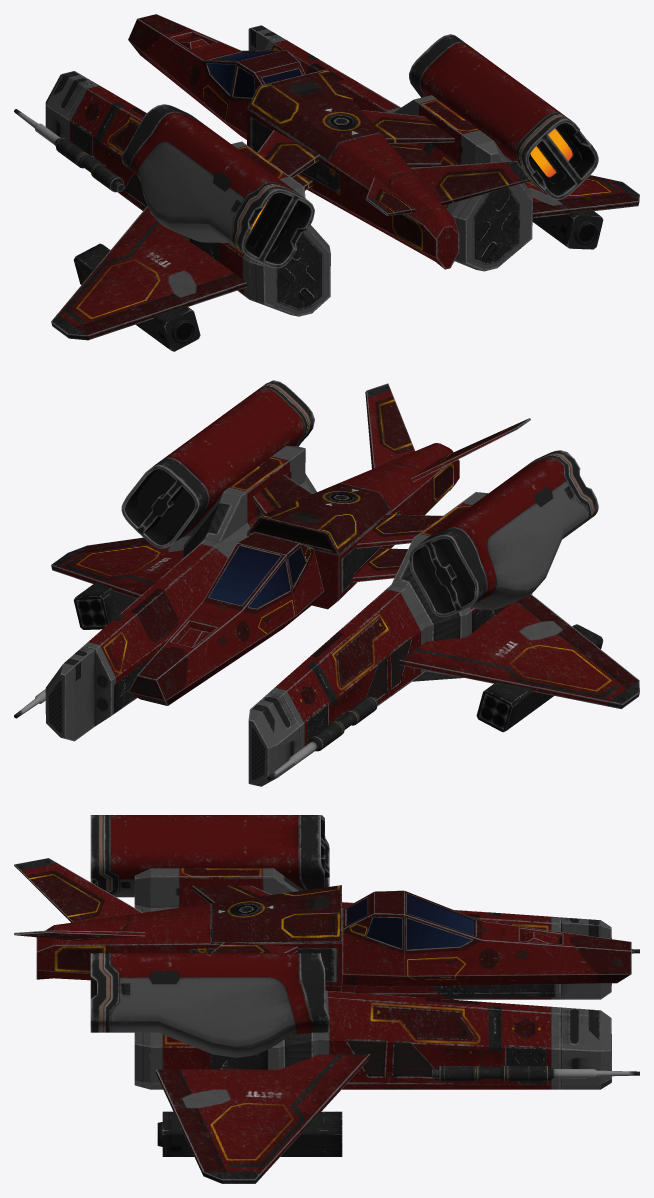
File: battleship2.gltf
3 views of the same model, one above another, from view 1: azimuth 30°, elevation 25°; view 2: azimuth 150°, elevation 25°; view 3: azimuth 270°, elevation 25° (orthographic).
Parts seen in each view (by area): view 1: Engine1-1, MainBody2, MainBody13-1, Engine1-2, Wing6-1, MainBody13-2, Cockpit3_WithoutInterior, Wing2-6, Wing6-2, Big_Launcher-1, Wing2-2, Big_Launcher-2 (+5 smaller); view 2: MainBody13-1, MainBody13-2, Engine1-1, Cockpit3_WithoutInterior, Engine1-2, Wing6-1, MainBody2, Wing6-2, Wing2-6, Big_Launcher-1, Big_Launcher-2, Wing2-1 (+4 smaller); view 3: MainBody13-2, Engine1-2, Cockpit3_WithoutInterior, Wing6-2, MainBody2, Engine1-1, MainBody13-1, Wing2-5, Big_Launcher-2, Blaster-2, Wing2-1, Wing2-6 (+1 smaller).
Part boxes in pixels (bbox=[...]): Engine1-1: bbox=[121, 104, 314, 268]; MainBody2: bbox=[247, 69, 459, 269]; MainBody13-1: bbox=[45, 71, 330, 316]; Engine1-2: bbox=[409, 34, 598, 199]; Wing6-1: bbox=[51, 206, 246, 340]; MainBody13-2: bbox=[248, 25, 532, 271]; Cockpit3_WithoutInterior: bbox=[128, 14, 305, 139]; Wing2-6: bbox=[411, 161, 530, 205]; Wing6-2: bbox=[524, 175, 639, 218]; Big_Launcher-1: bbox=[73, 243, 200, 351]; Wing2-2: bbox=[362, 110, 454, 143]; Big_Launcher-2: bbox=[532, 209, 603, 249]; MainBody13-1: bbox=[248, 492, 532, 786]; MainBody13-2: bbox=[45, 446, 316, 741]; Engine1-1: bbox=[409, 450, 598, 617]; Cockpit3_WithoutInterior: bbox=[128, 532, 324, 705]; Engine1-2: bbox=[121, 380, 314, 548]; Wing6-1: bbox=[399, 594, 639, 709]; MainBody2: bbox=[247, 443, 459, 609]; Wing6-2: bbox=[51, 536, 190, 598]; Wing2-6: bbox=[365, 383, 414, 468]; Big_Launcher-1: bbox=[476, 624, 603, 732]; Big_Launcher-2: bbox=[73, 582, 136, 629]; Wing2-1: bbox=[357, 514, 442, 548]; MainBody13-2: bbox=[134, 990, 611, 1089]; Engine1-2: bbox=[90, 953, 329, 1057]; Cockpit3_WithoutInterior: bbox=[342, 890, 631, 986]; Wing6-2: bbox=[156, 1054, 370, 1183]; MainBody2: bbox=[36, 885, 341, 991]; Engine1-1: bbox=[90, 815, 329, 897]; MainBody13-1: bbox=[134, 868, 611, 999]; Wing2-5: bbox=[14, 858, 142, 922]; Big_Launcher-2: bbox=[157, 1111, 342, 1156]; Blaster-2: bbox=[432, 1066, 639, 1081]; Wing2-1: bbox=[192, 885, 271, 903]; Wing2-6: bbox=[14, 930, 145, 940].
Size of the model in its own units: 13.02 by 3.74 by 12.49.
9 materials, 9 textured.
